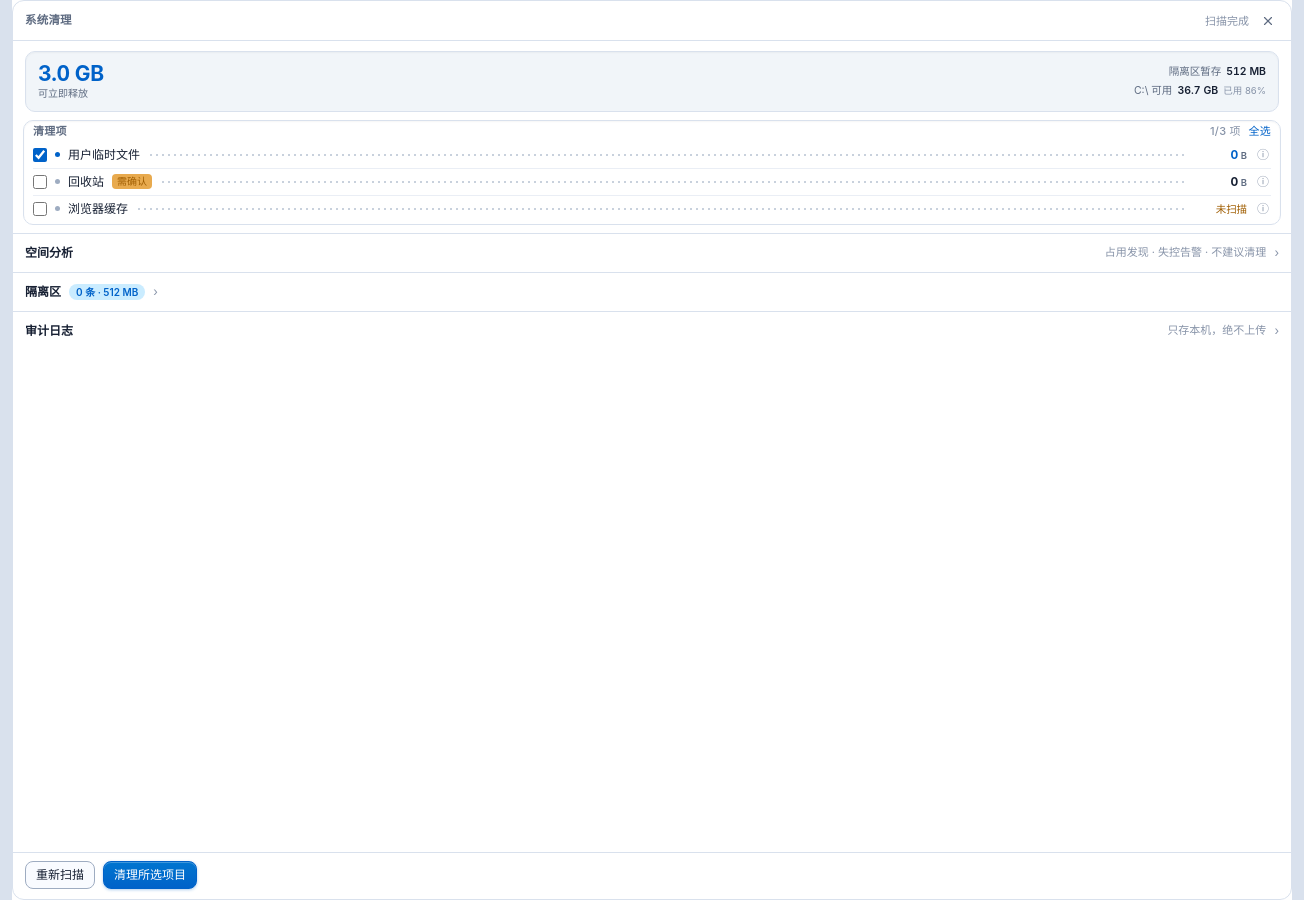
Scenario: SystemCleanerTool › 确认条挂在那儿时再勾一项：确认作废（否则没扫过的项能借「确认执行」被删掉）
The image size is (1304, 900).
// 勾上回收站（两项都已扫过），点清理 → 后端要确认，确认条出现
Click the checkbox labelled "回收站 需确认 0 B ⓘ" at (40, 182), box 33,175 -> 47,189
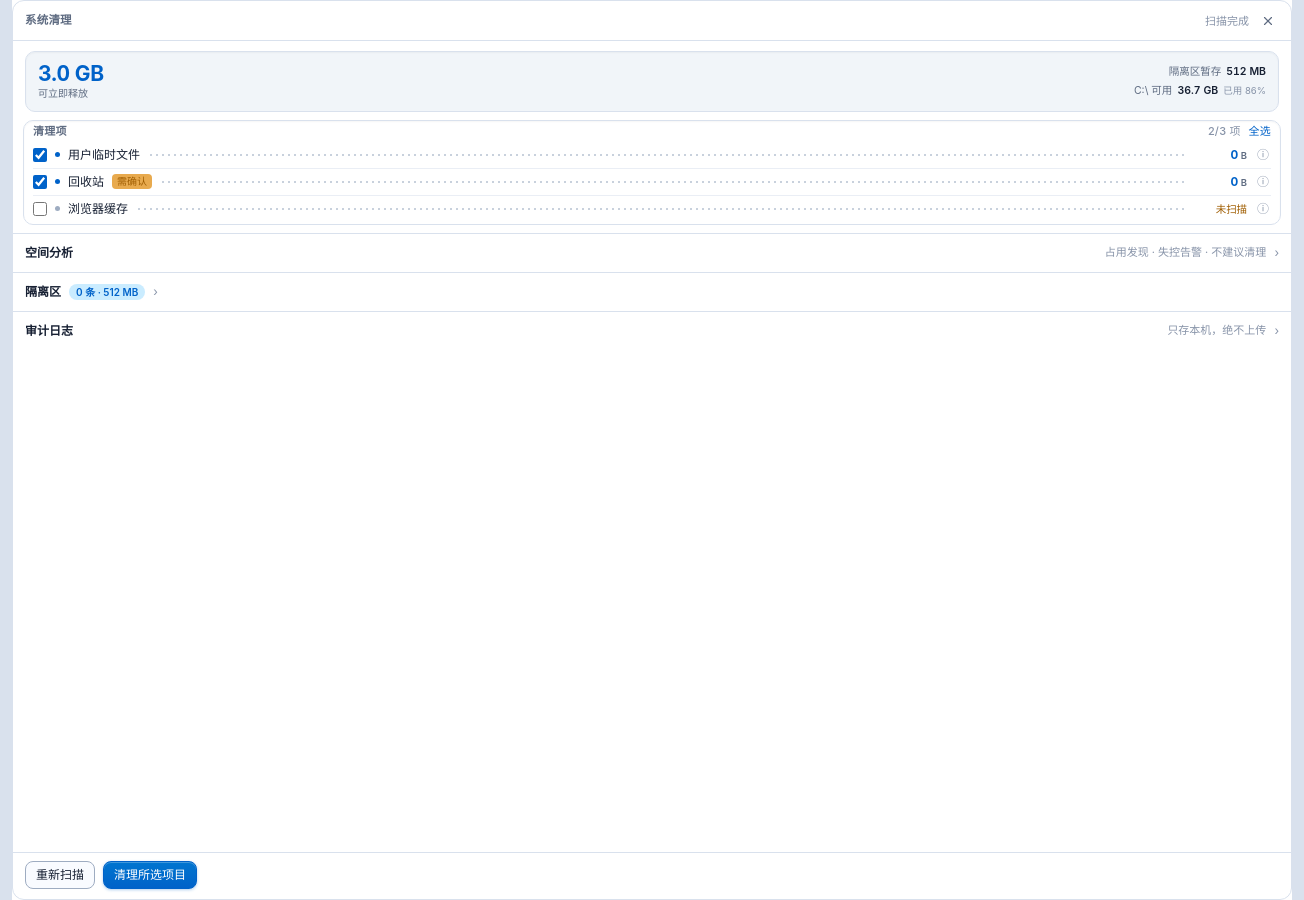
Click the button "清理所选项目" at (150, 875), box 103,861 -> 197,889
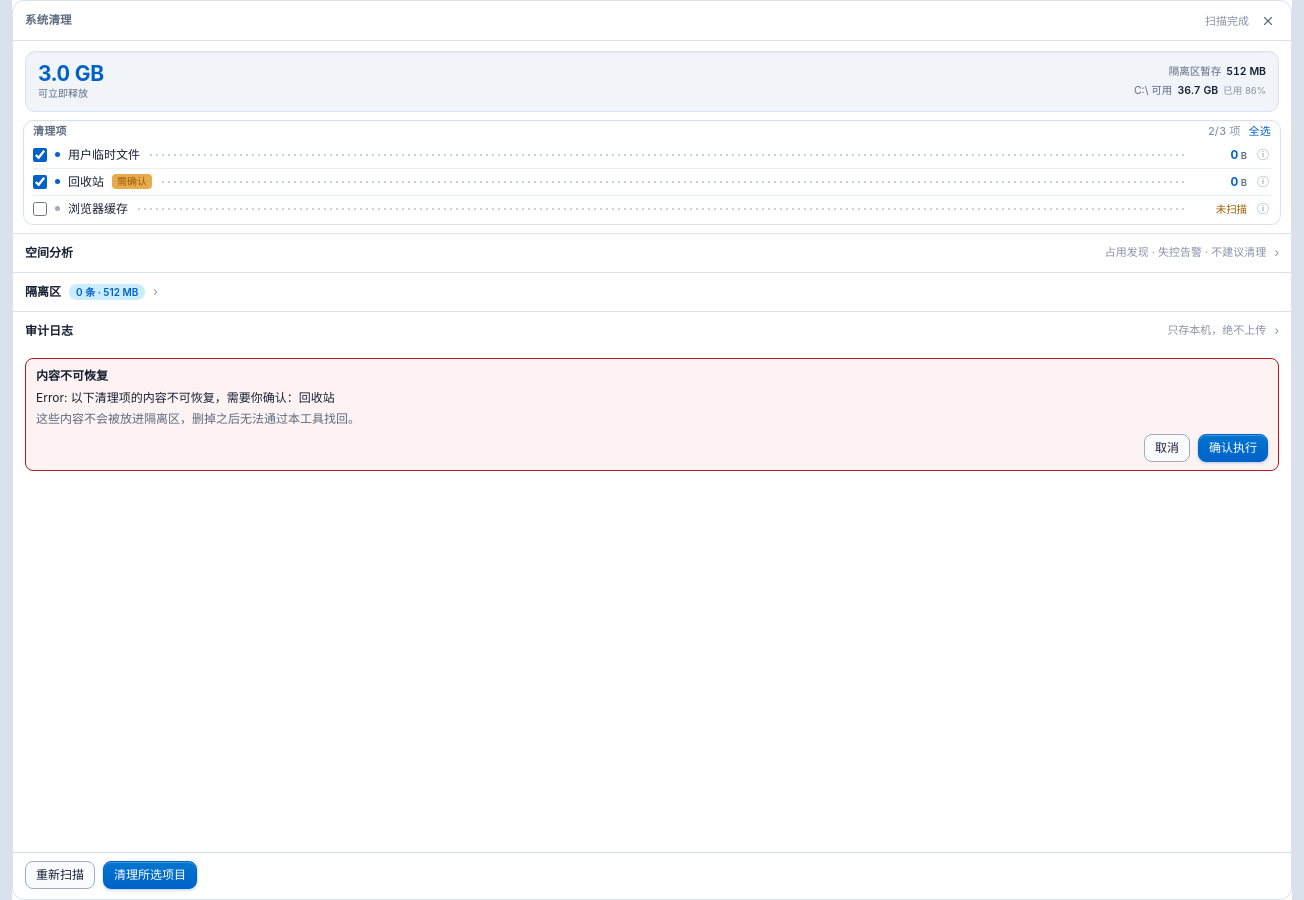
Now the text "内容不可恢复" is shown, box 36,368 -> 108,383
Click the checkbox labelled "浏览器缓存 未扫描 ⓘ" at (40, 209), box 33,202 -> 47,216
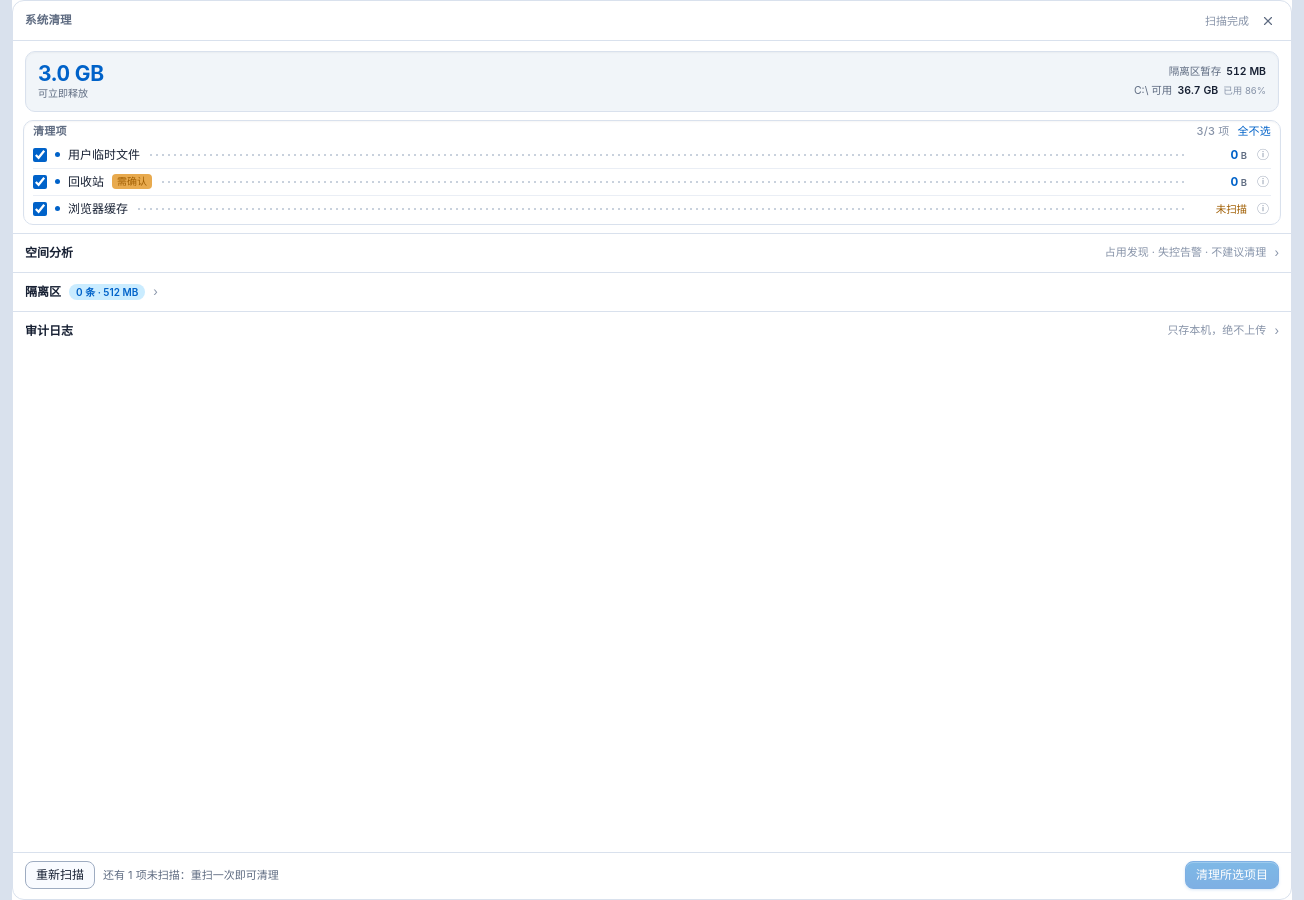
Now the text "内容不可恢复" is gone
Now the button "清理所选项目" is disabled, box 1185,861 -> 1279,889
